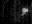person: (21, 8, 28, 15)
